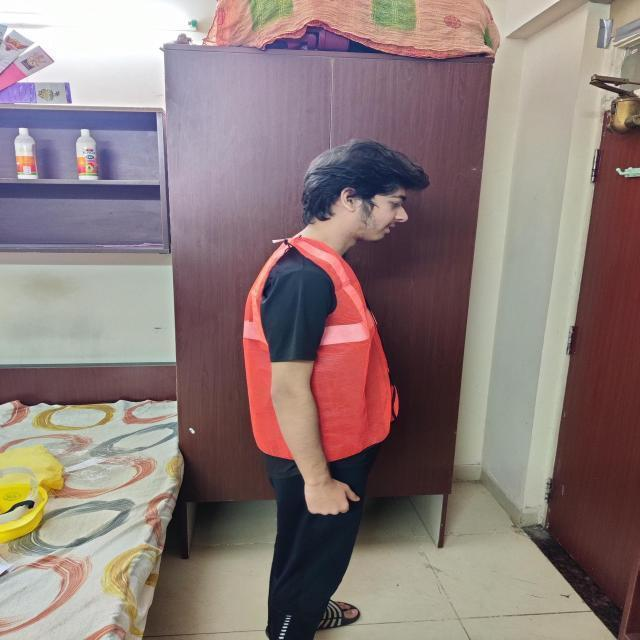no-helmet: (303, 140, 431, 217)
vest: (243, 241, 400, 464)
